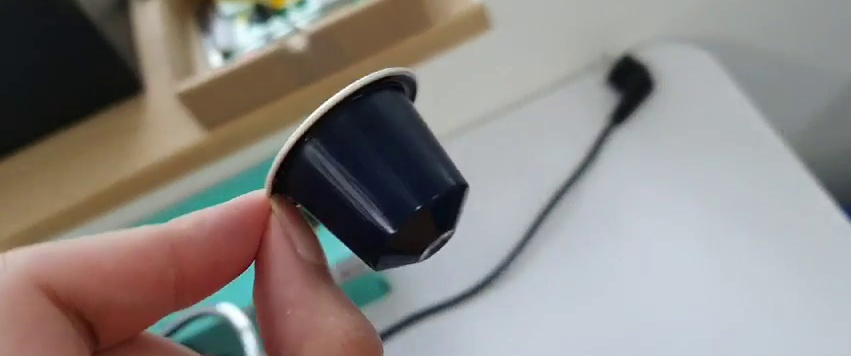capsule_1: (262, 63, 470, 274)
